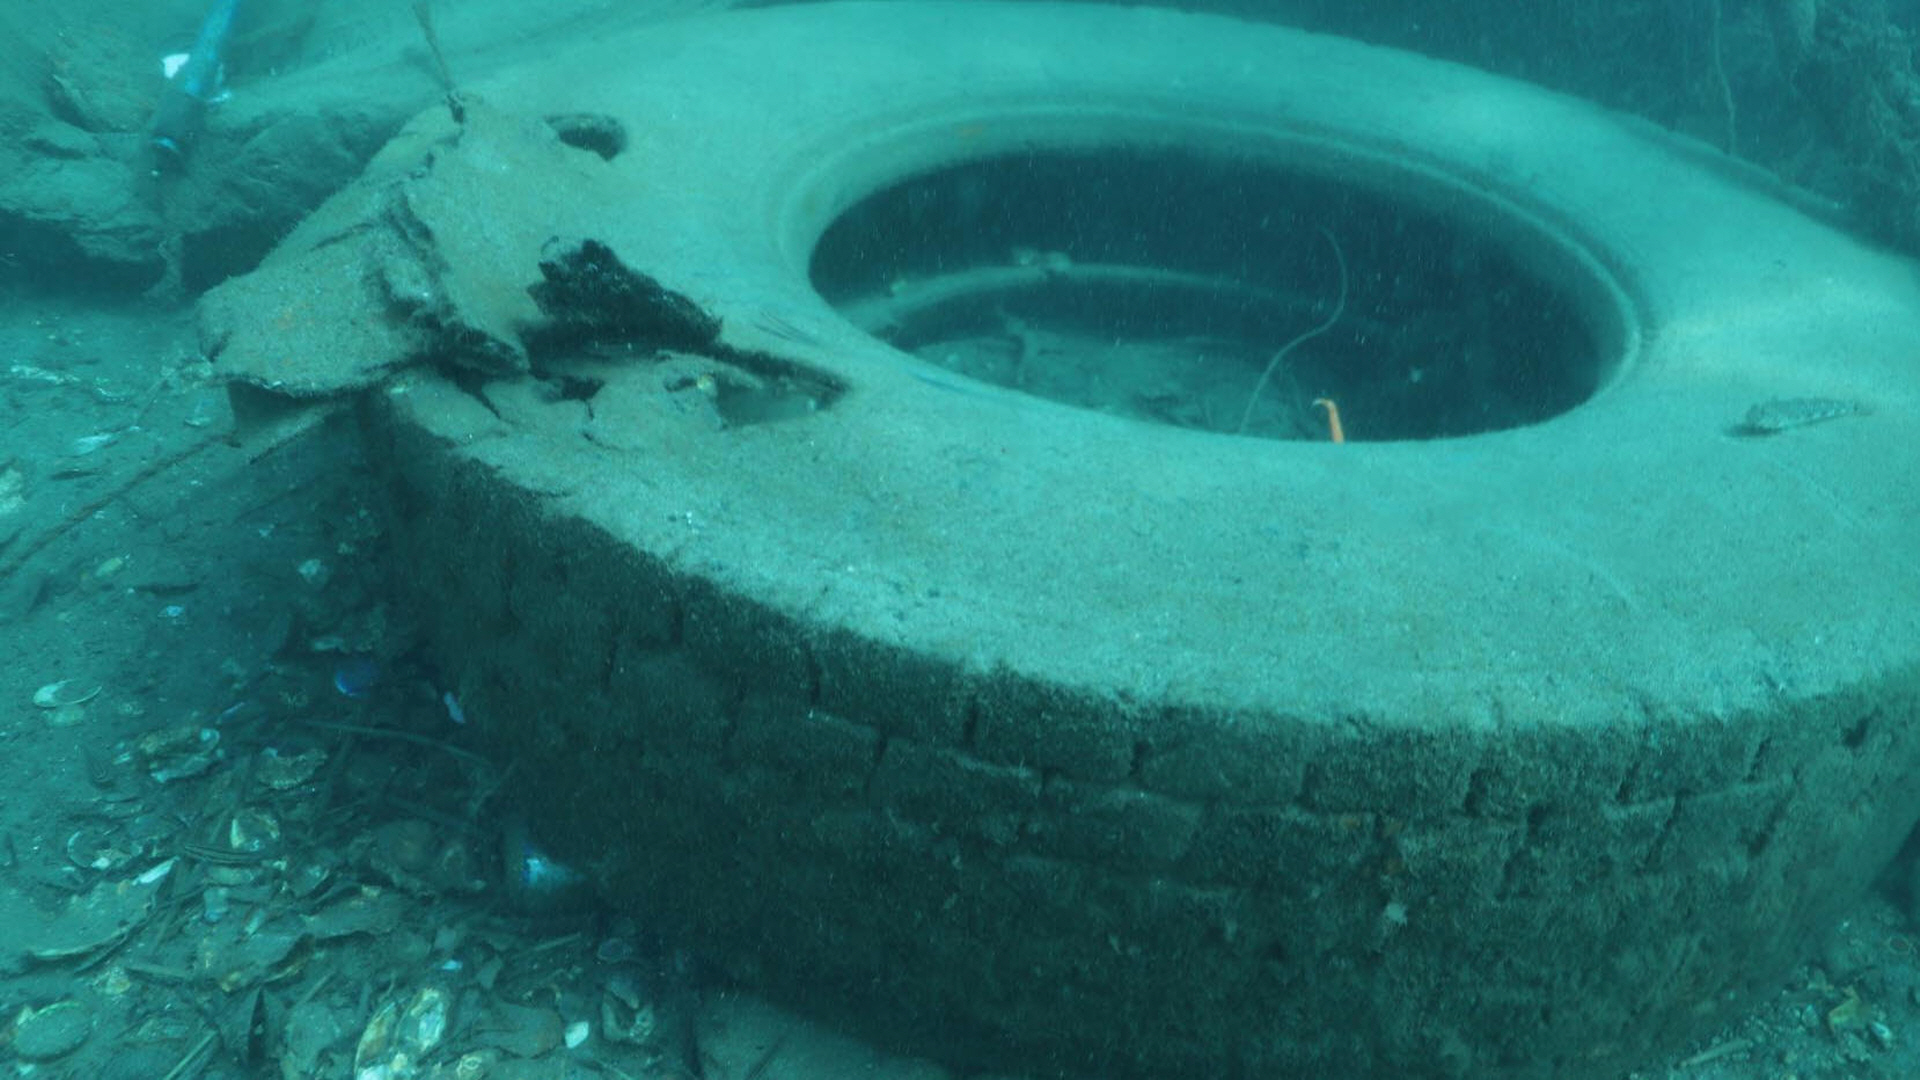tire: (347, 5, 1920, 1080)
